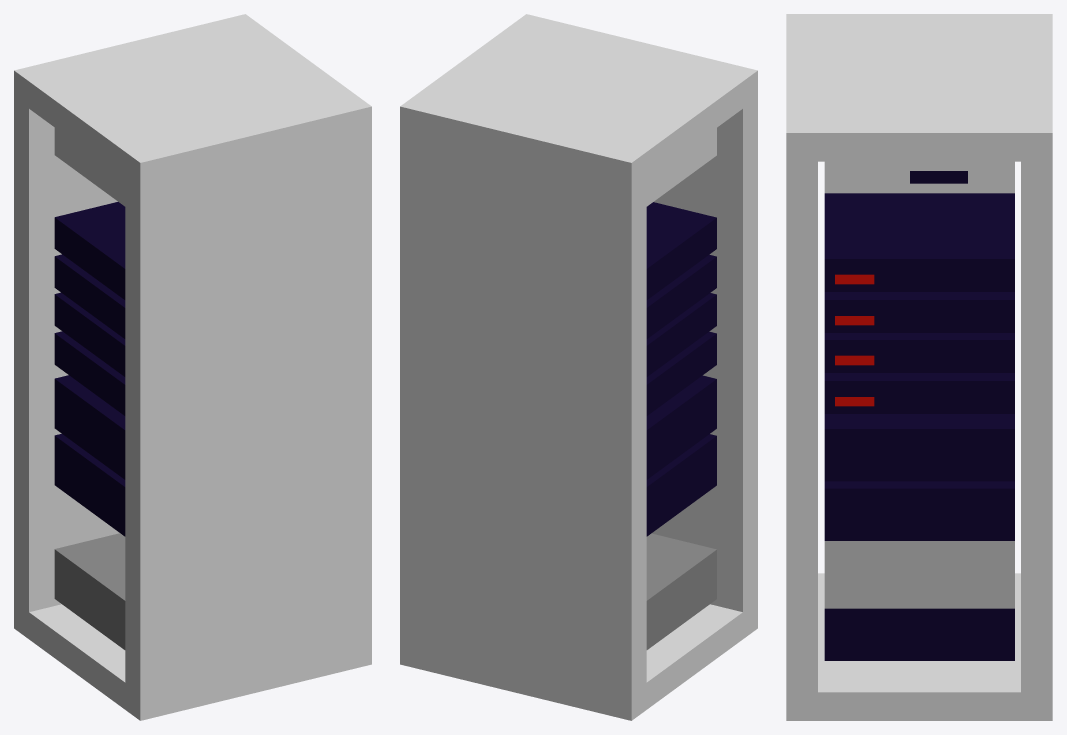
File: observeBox.fbx
3 renders of one model, left to right at view 1: azimuth 30°, elevation 25°; view 2: azimuth 150°, elevation 25°; view 3: azimuth 270°, elevation 25°, orthographic. The views are drawn at different scales.
Parts seen in each view (by area): view 1: overserBox; view 2: overserBox; view 3: overserBox.
Boxes of the visible parts, x1,y1,x2,y2 form: overserBox: (14, 14, 371, 720); overserBox: (400, 14, 757, 720); overserBox: (786, 14, 1052, 720).
Size of the model in its own units: 11.26 by 25.94 by 10.65.
